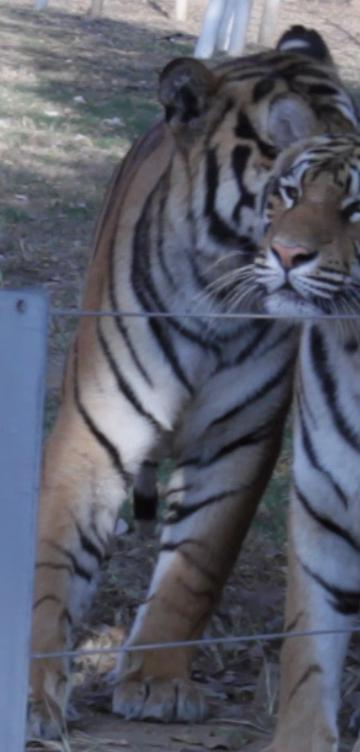tiger: (32, 25, 359, 751)
